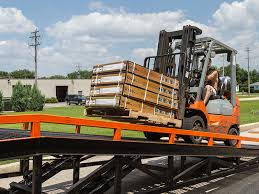Pallet Jack: (83, 24, 242, 148)
Yard Ramp: (1, 114, 259, 163)
